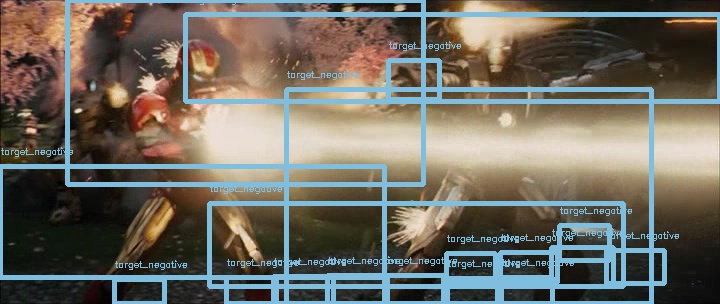person: (171, 40, 221, 95), (170, 40, 220, 95), (172, 40, 222, 95), (171, 39, 221, 94), (171, 41, 221, 96)
target_negative: (364, 207, 715, 299), (276, 50, 590, 99), (512, 115, 628, 215), (634, 101, 679, 258), (574, 192, 601, 300), (44, 288, 284, 292)
